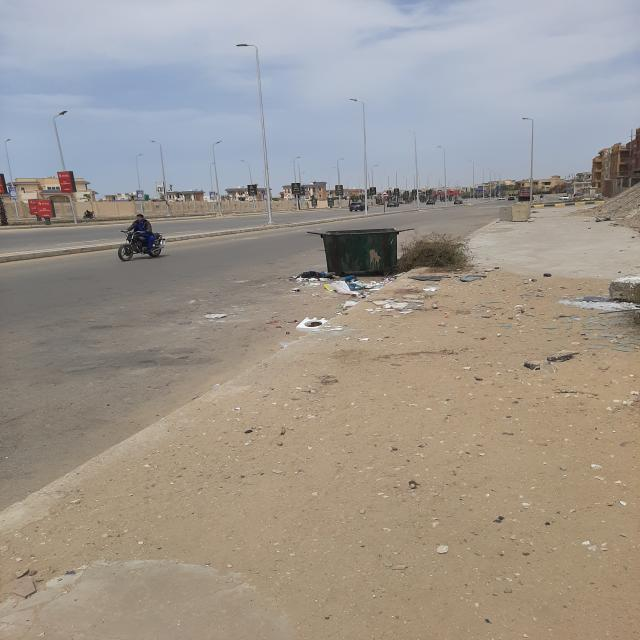Street Light: (235, 44, 276, 224), (52, 110, 79, 225), (348, 98, 368, 214), (148, 140, 170, 215), (4, 139, 20, 220), (522, 117, 534, 205), (212, 140, 222, 216), (436, 146, 447, 206), (135, 154, 145, 217)
